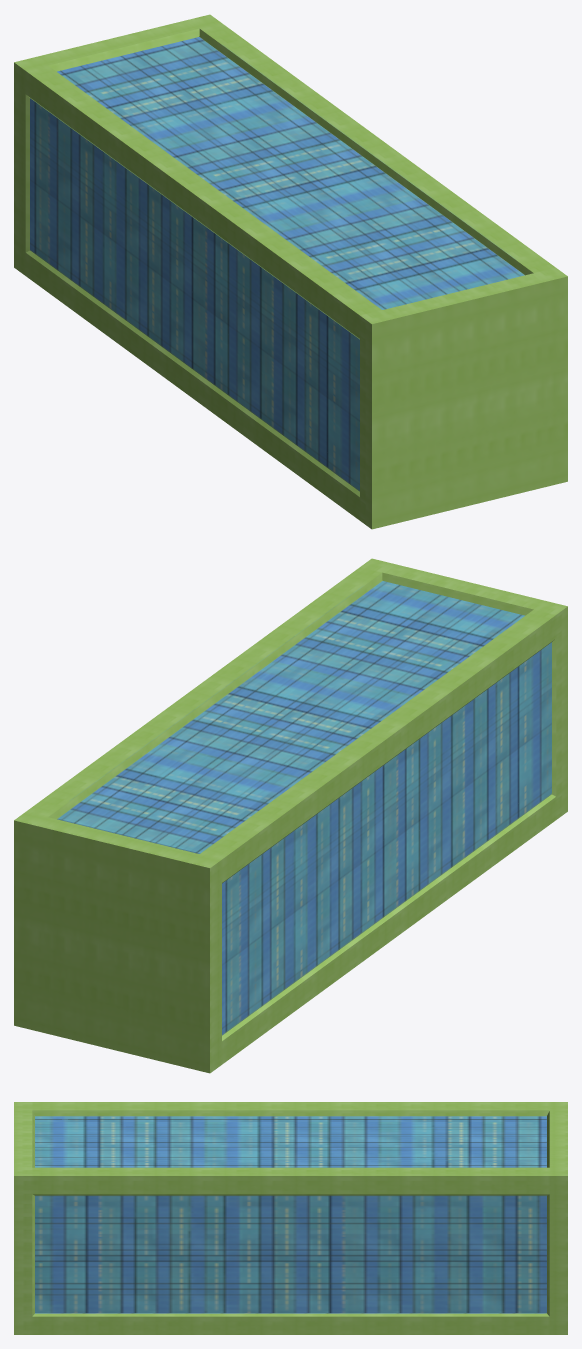
File: buildings-comercial-11.obj
The picture shows the model from 3 angles, top to bottom: view 1: azimuth 30°, elevation 25°; view 2: azimuth 150°, elevation 25°; view 3: azimuth 270°, elevation 25°; orthographic projection. The views are drawn at different scales.
Visible parts, largest first — view 1: buildings-comercial-11_Cube.102; view 2: buildings-comercial-11_Cube.102; view 3: buildings-comercial-11_Cube.102.
Part boxes in pixels (box(x1,y1,x2,y2)): buildings-comercial-11_Cube.102: box(14, 14, 567, 529); buildings-comercial-11_Cube.102: box(14, 558, 567, 1073); buildings-comercial-11_Cube.102: box(14, 1102, 567, 1334).
Bounding box in the file's own units: 3.79 × 3.79 × 11.97.
